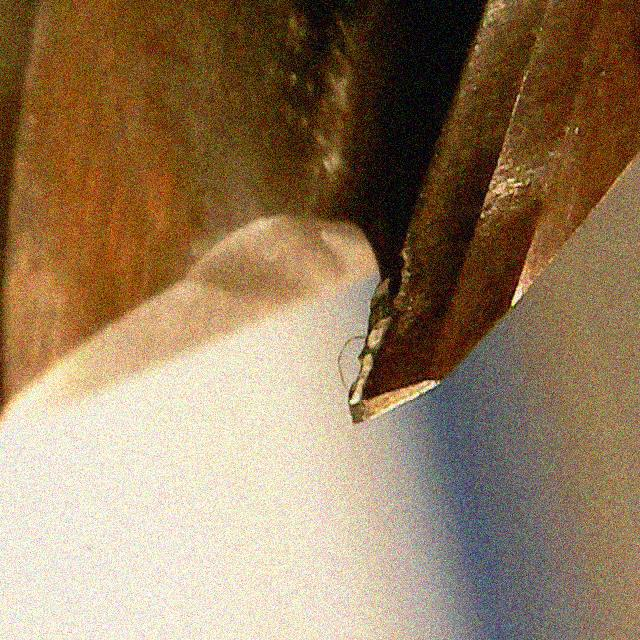Tool-wear-class-2: (340, 140, 506, 446)
